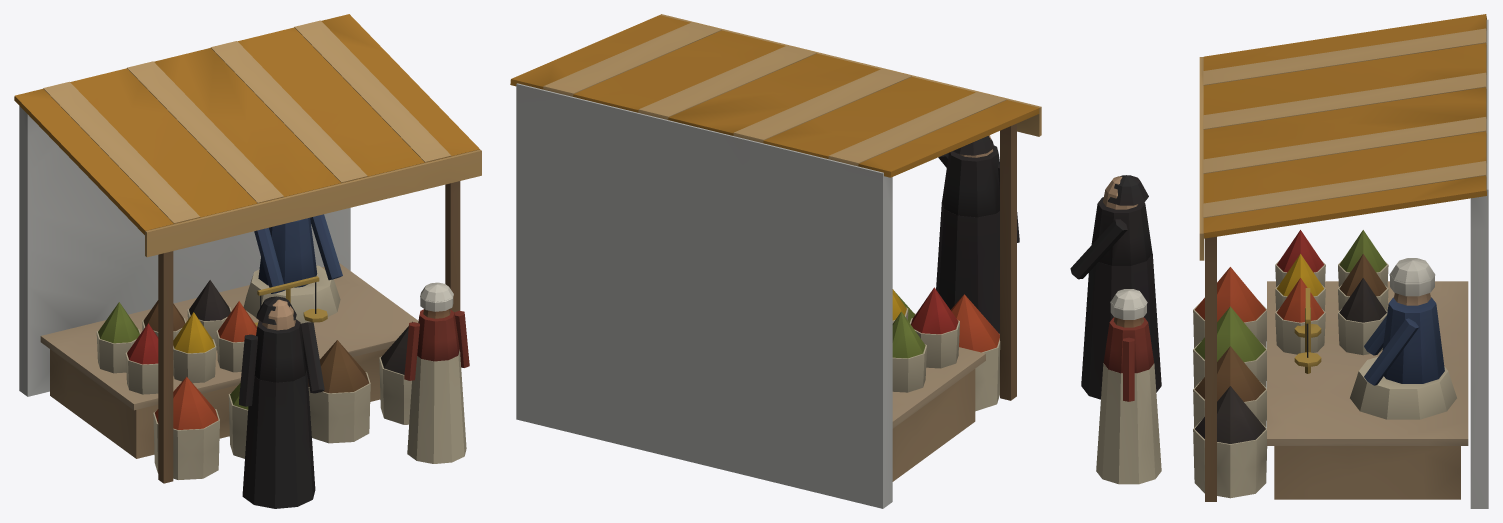
File: stall.glb
3 views of the same model, side by side, from view 1: azimuth 30°, elevation 25°; view 2: azimuth 150°, elevation 25°; view 3: azimuth 270°, elevation 25° (orthographic). The views are drawn at different scales.
Parts seen in each view (by area): view 1: base; view 2: base; view 3: base.
Part boxes in pixels (left/top/right/bottom): base: left=14, top=14, right=481, bottom=508; base: left=510, top=14, right=1041, bottom=508; base: left=1070, top=14, right=1488, bottom=508.
Bounding box in the file's own units: 2.8 × 2.38 × 2.8.
